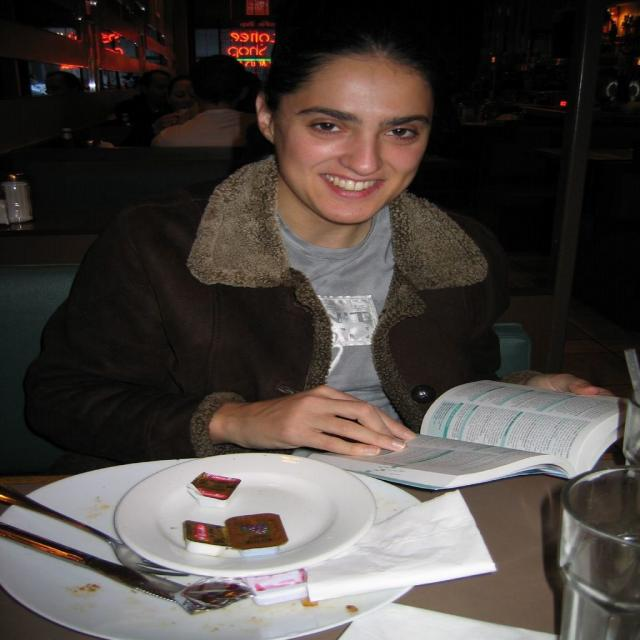non-organic waste: (113, 447, 369, 582)
